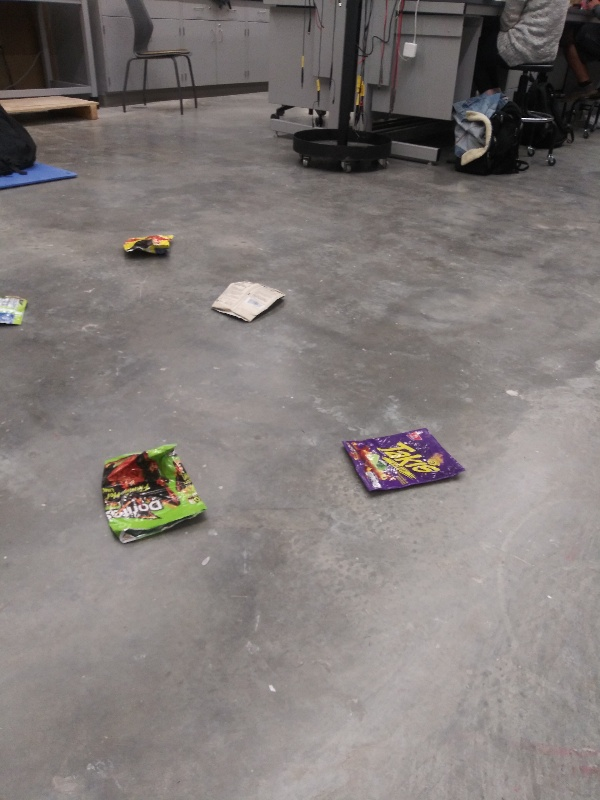bag: (96, 437, 215, 549), (338, 423, 467, 496), (207, 281, 289, 326), (120, 227, 178, 259), (1, 286, 30, 331)
